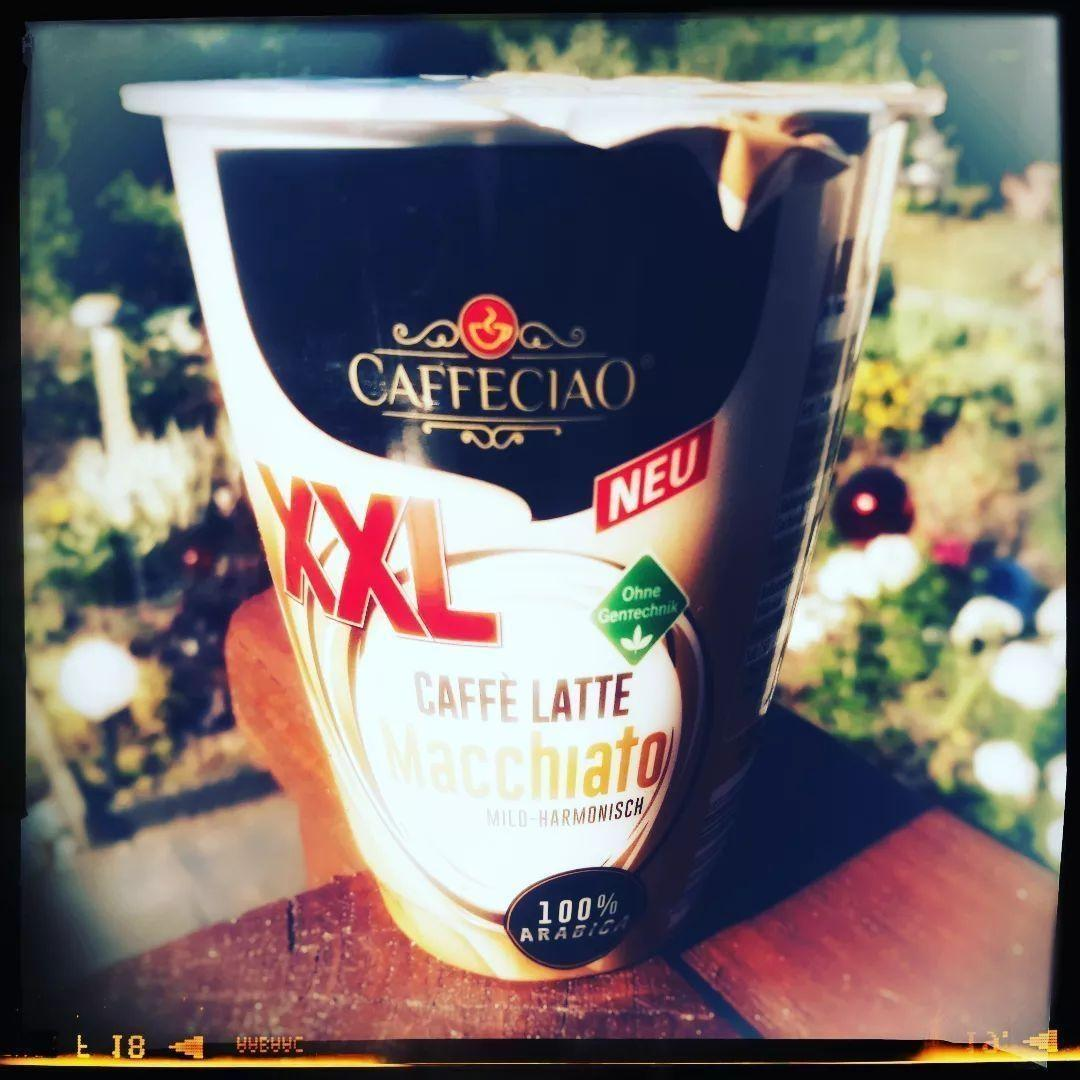cup-disposable: (106, 51, 953, 1007)
